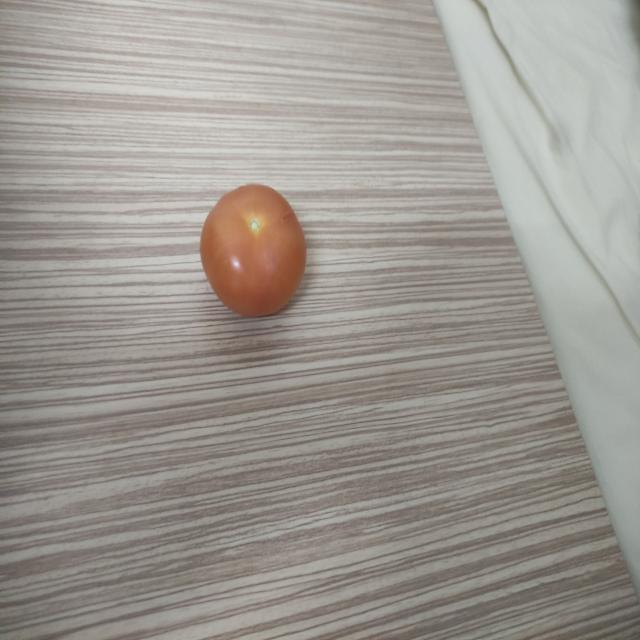sari: (191, 180, 314, 322)
